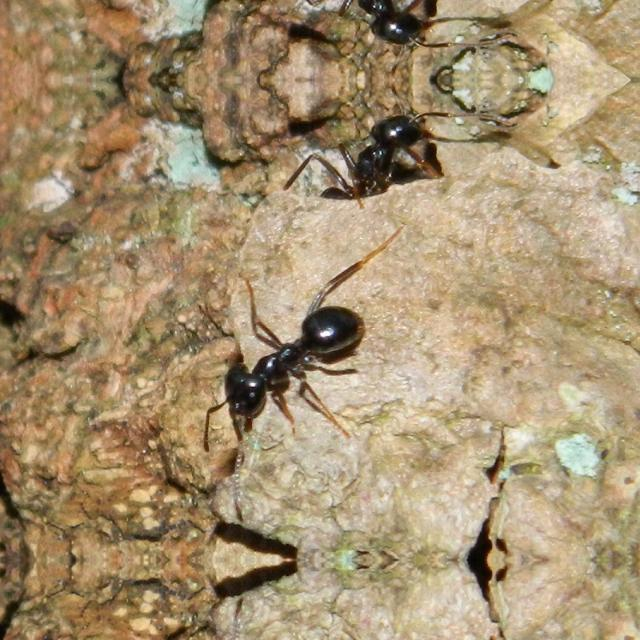Lasius: (188, 243, 372, 454), (292, 96, 456, 224), (292, 0, 456, 64)
